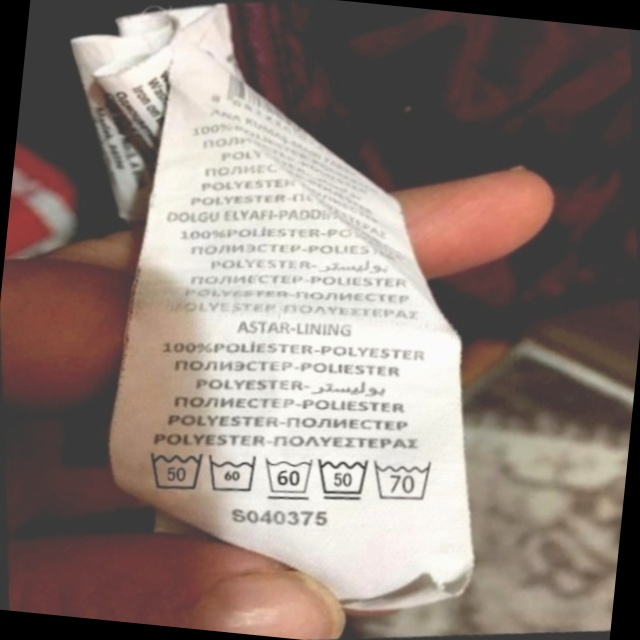50C: (139, 437, 213, 502), (310, 448, 378, 510)
60C: (258, 447, 323, 507), (201, 444, 266, 503)
70C: (369, 450, 443, 510)
